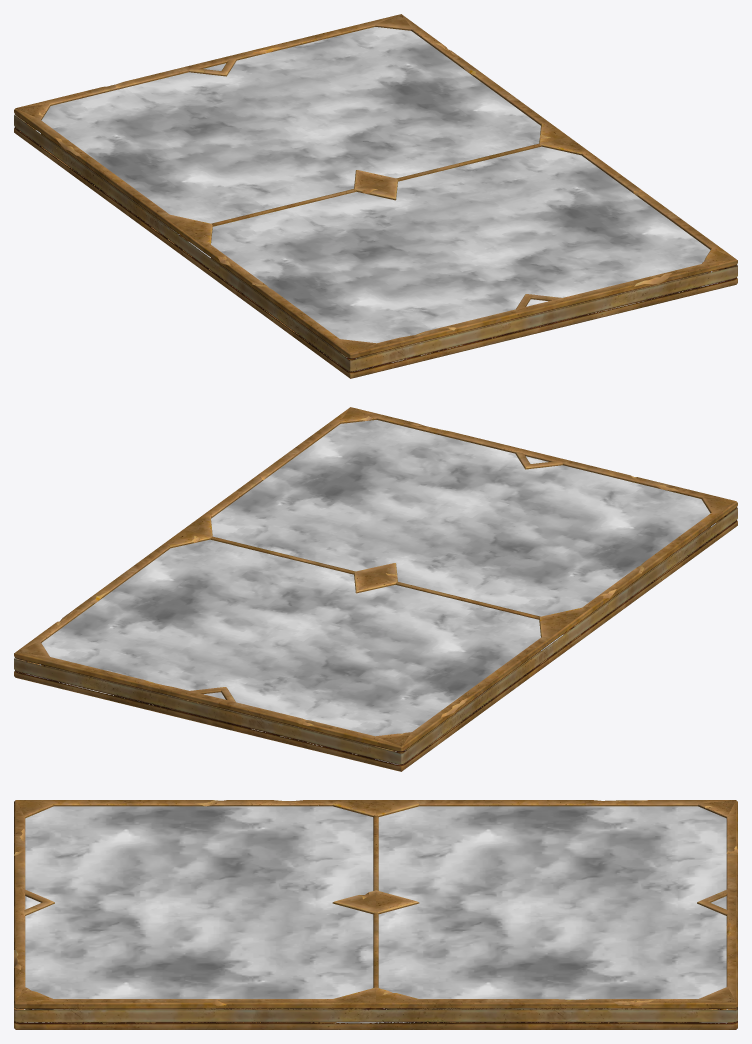
3 views of the same model, one above another, from view 1: azimuth 30°, elevation 25°; view 2: azimuth 150°, elevation 25°; view 3: azimuth 270°, elevation 25° (orthographic). The views are drawn at different scales.
Parts seen in each view (by area): view 1: SM_AgilityPlatform_4x6_LOD0; view 2: SM_AgilityPlatform_4x6_LOD0; view 3: SM_AgilityPlatform_4x6_LOD0.
Boxes of the visible parts, x1,y1,x2,y2 form: SM_AgilityPlatform_4x6_LOD0: (14,14,737,378); SM_AgilityPlatform_4x6_LOD0: (14,407,737,771); SM_AgilityPlatform_4x6_LOD0: (14,800,737,1029).
Bounding box in the file's own units: 4 × 0.2501 × 6.
Materials: 2 (2 with a texture image).
